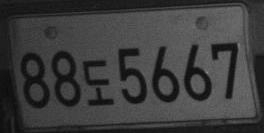5: (117, 47, 148, 104)
6: (150, 45, 180, 103), (183, 43, 212, 101)
7: (213, 42, 239, 99)
8: (18, 51, 50, 109), (51, 49, 81, 108)
도: (81, 58, 115, 106)
